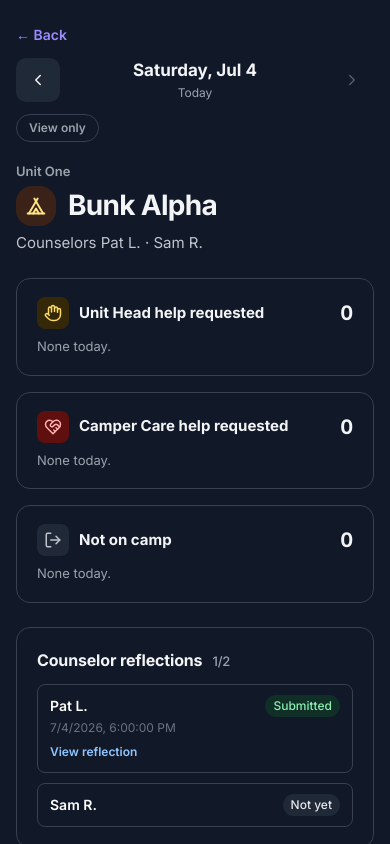
Test: BunkDashboard › renders counselor self-reflections with expandable content and states
Check: the list item with test id "counselor-self-refl-1" shows "Submitted", box [274,698,332,712]
Check: the list item with test id "counselor-self-refl-2" shows "Not yet", box [291,796,332,812]
Click the button "View reflection" at (94,752), box [50,742,137,760]
(page scrolled)
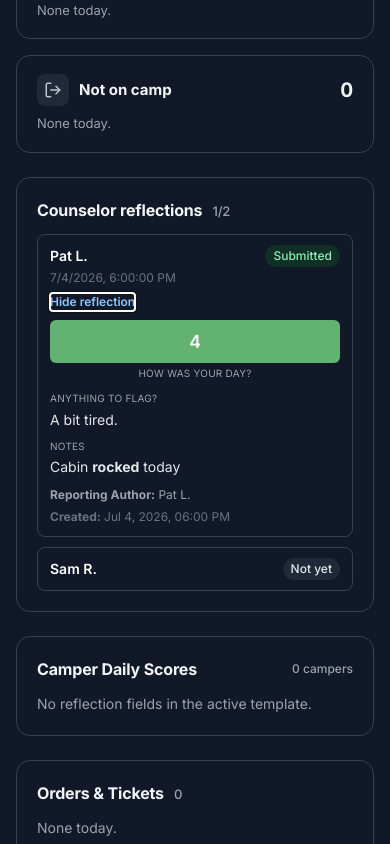
Check: the text "A bit tired." is shown, box [50,411,118,428]
Check: the element named "How was your day?: 4 of 5" is shown, box [50,320,340,379]
Check: the element with test id "counselor-self-refl-mobile-1" is shown, box [50,320,340,526]
